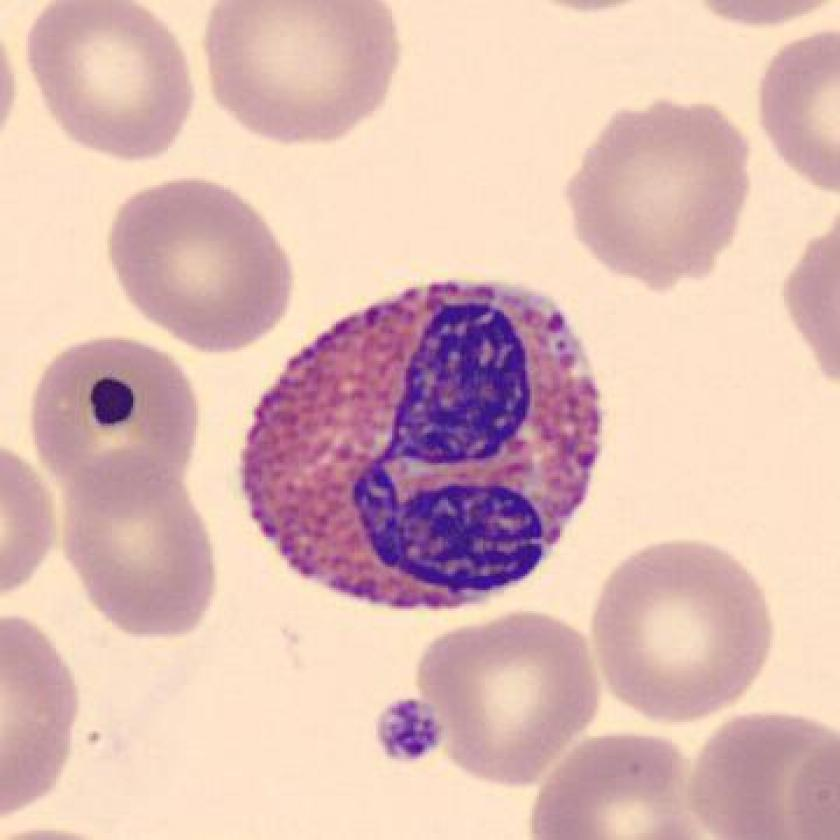eosinophil: (223, 265, 617, 626)
